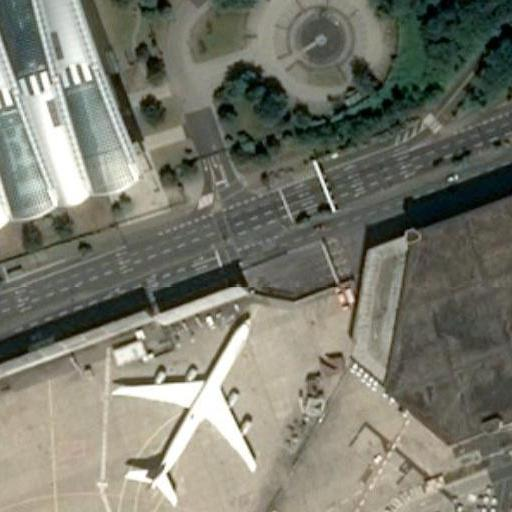Aircraft: (106, 307, 261, 506), (102, 320, 262, 512)
